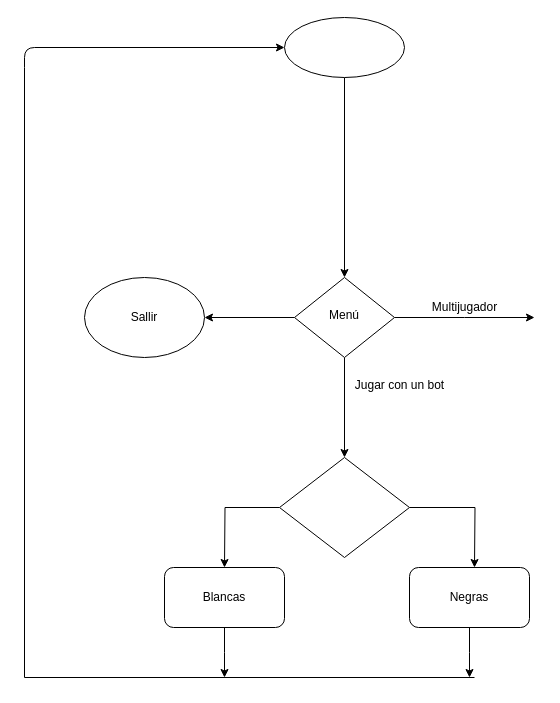
This 560x703 diagram has some shape labels left out. The centre of each missing label's shape, as x and y in pixels:
Inicio: the point at 344,47
¿Con que color desea jugar?: the point at 344,507
